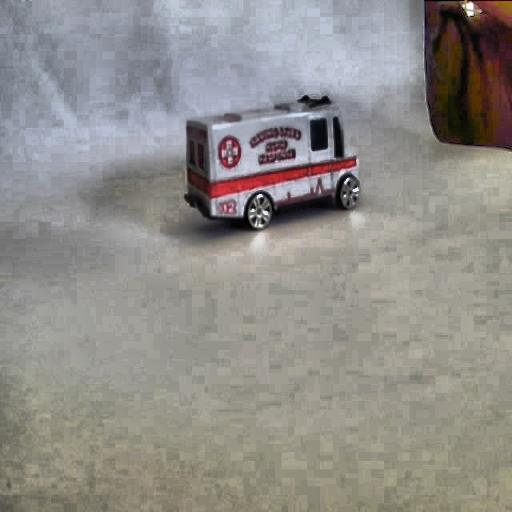ambulance: (184, 94, 359, 230)
